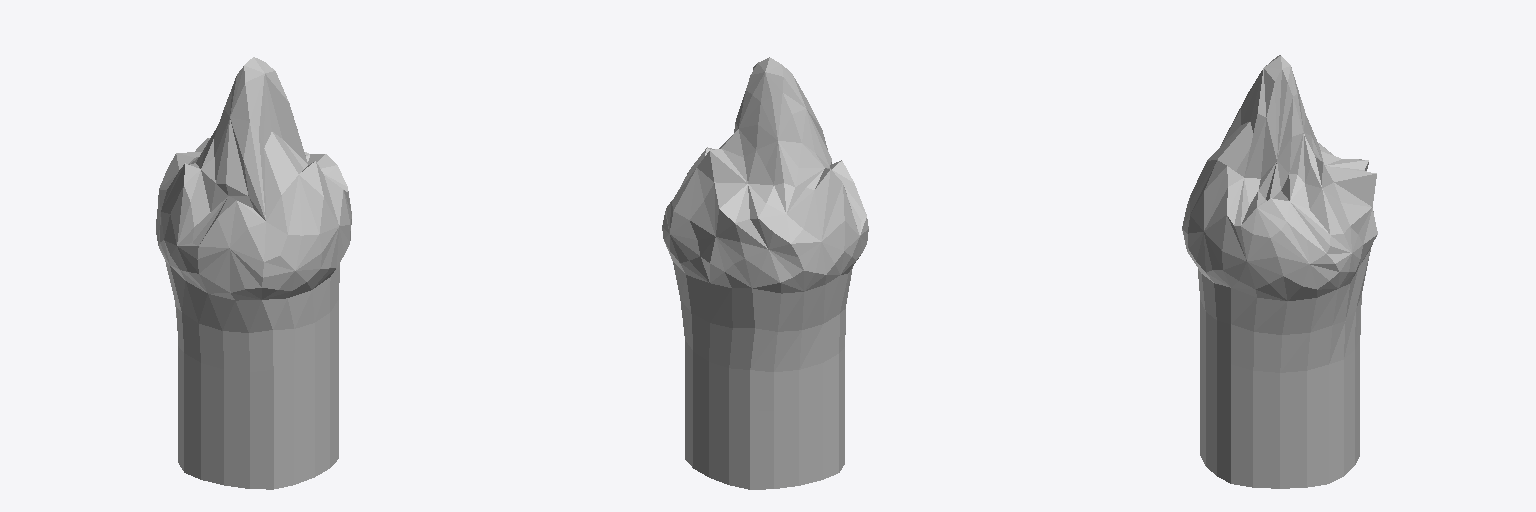
Rendered from island4.obj.
3 renders of one model, left to right at view 1: azimuth 30°, elevation 25°; view 2: azimuth 150°, elevation 25°; view 3: azimuth 270°, elevation 25°, orthographic.
Visible parts, largest first — view 1: Icosphere_Icosphere.002; view 2: Icosphere_Icosphere.002; view 3: Icosphere_Icosphere.002.
Boxes of the visible parts, box(x1,y1,x2,y2) form: Icosphere_Icosphere.002: box(156, 57, 351, 489); Icosphere_Icosphere.002: box(662, 57, 868, 489); Icosphere_Icosphere.002: box(1182, 55, 1377, 488).
Bounding box in the file's own units: 1.98 × 4.41 × 1.97.